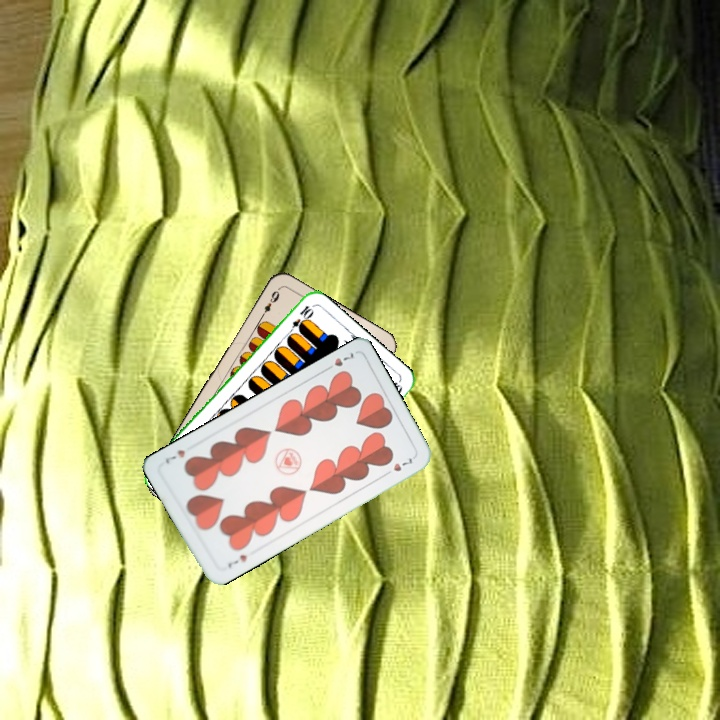E10: (284, 301, 315, 338)
E9: (256, 284, 282, 321)
H7: (320, 348, 356, 374), (223, 550, 249, 570)
